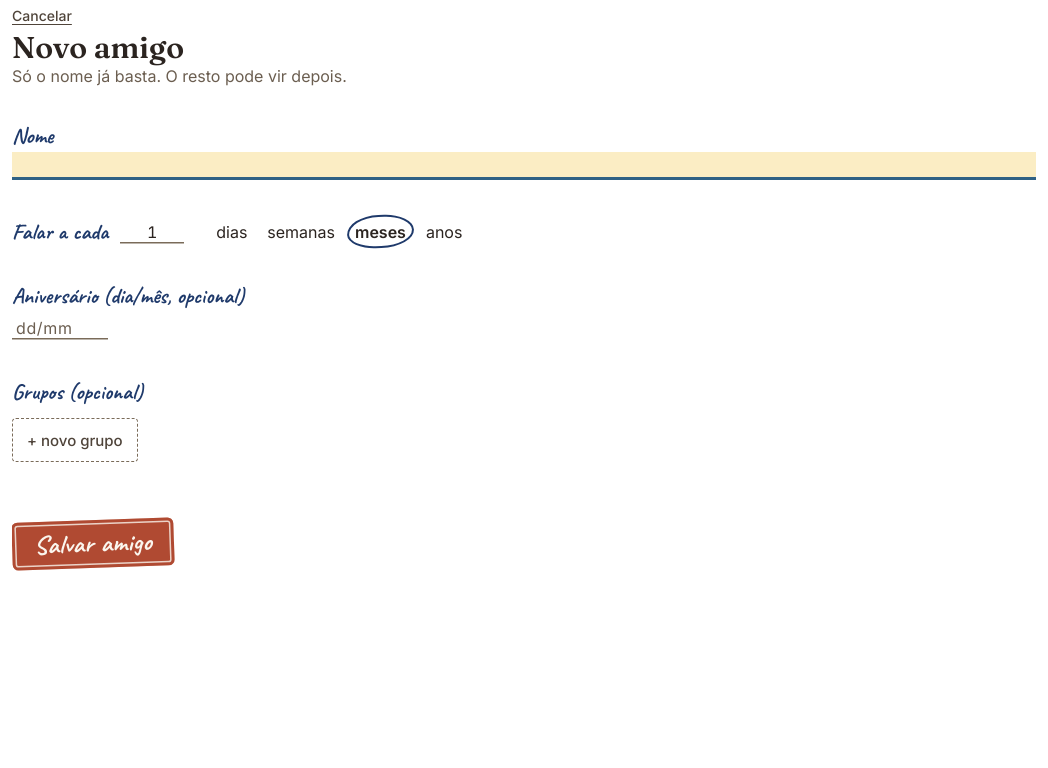
Test case: New friend form › keeps the form available after a connection failure
In the field named "name": (524, 160) [12,136,1036,184], type "Ana"
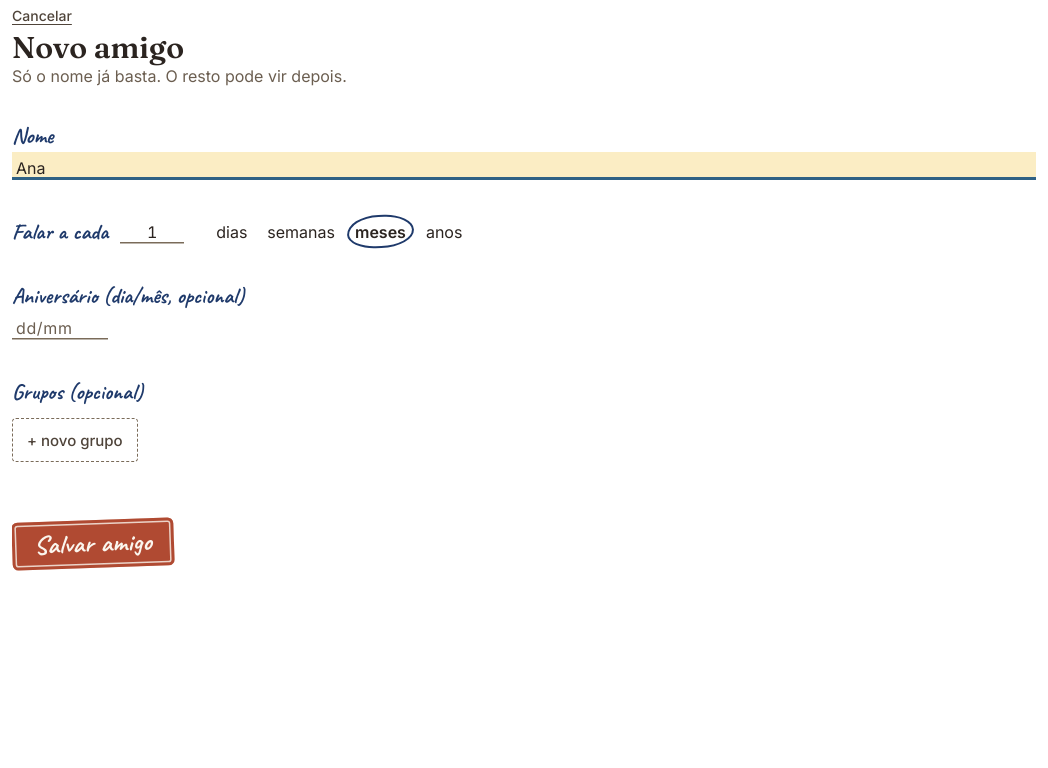
Submit the form, box [12,120,1036,568]
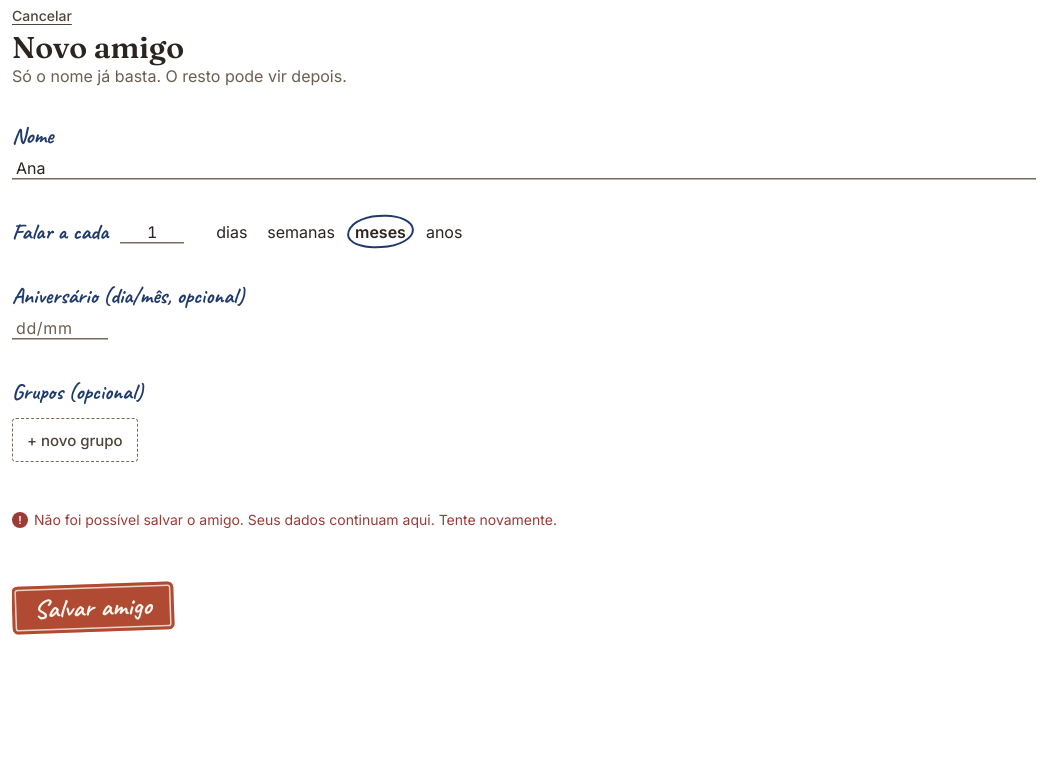
Expected: the submit button is enabled, [11,581,175,635]
Now the message "Não foi possível salvar o amigo. Seus dados continuam aqui. Tente novamente." is shown, box [34,511,557,528]
